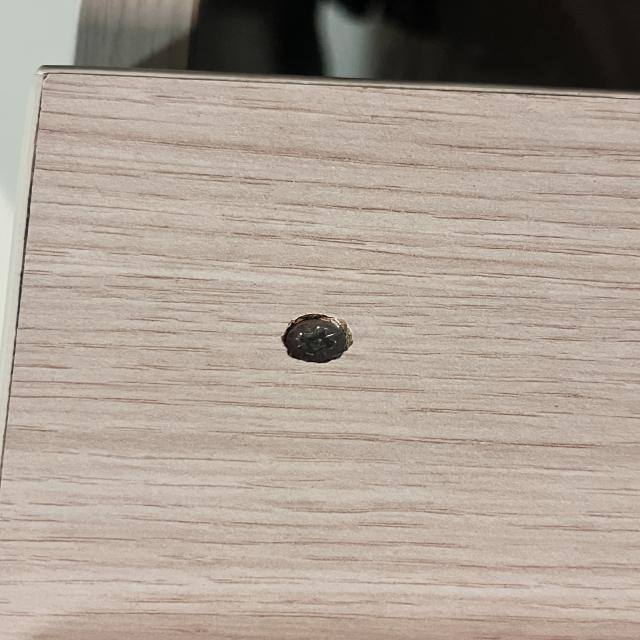pozidriv: (283, 319, 347, 363)
